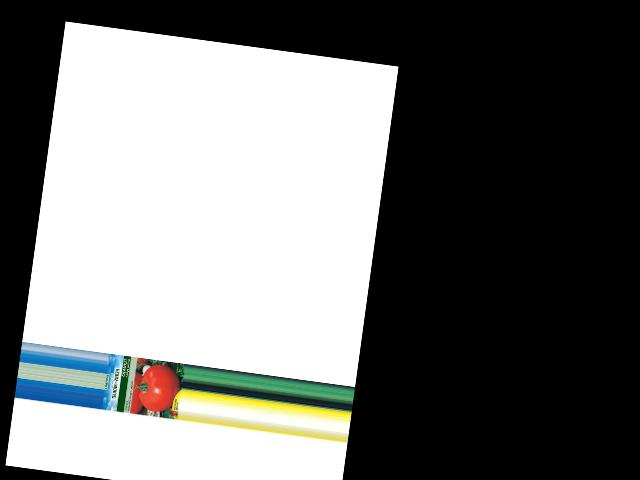tomato: (137, 362, 182, 414)
